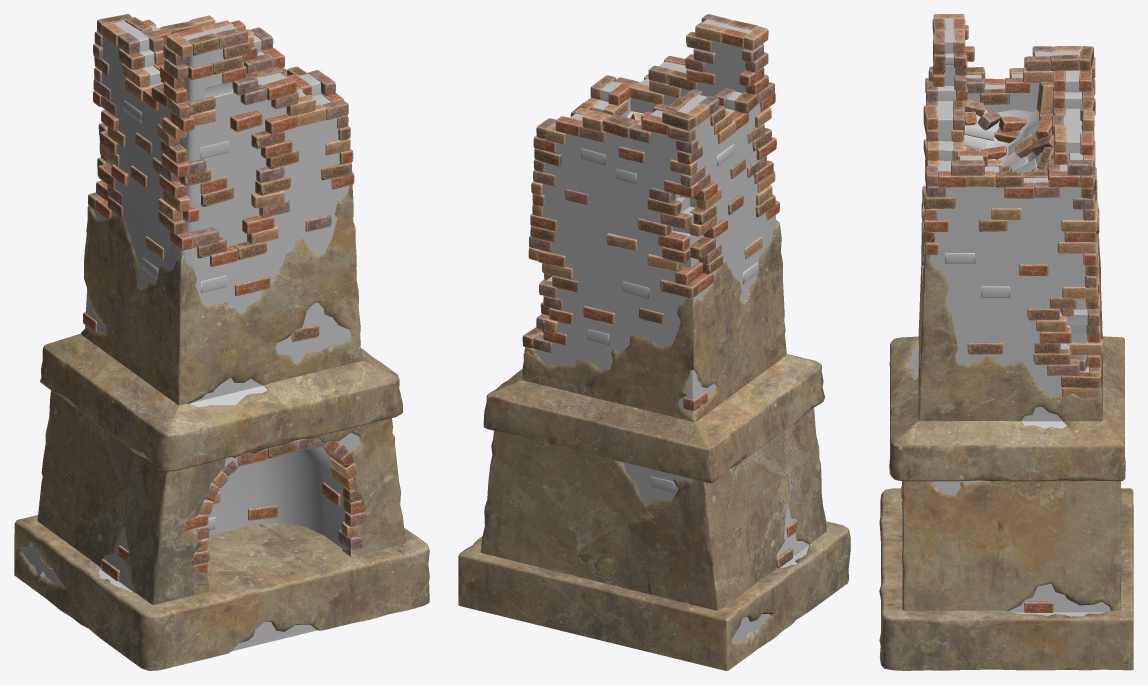
The picture shows the model from 3 angles, left to right: view 1: azimuth 30°, elevation 25°; view 2: azimuth 150°, elevation 25°; view 3: azimuth 270°, elevation 25°; orthographic projection. The views are drawn at different scales.
Parts seen in each view (by area): view 1: SM_Chimney_01v1_LOD0; view 2: SM_Chimney_01v1_LOD0; view 3: SM_Chimney_01v1_LOD0.
Boxes of the visible parts, bbox=[...] form: SM_Chimney_01v1_LOD0: bbox=[14, 14, 429, 670]; SM_Chimney_01v1_LOD0: bbox=[458, 14, 850, 670]; SM_Chimney_01v1_LOD0: bbox=[879, 14, 1133, 670].
Bounding box in the file's own units: 3.27 × 6.36 × 2.65.
